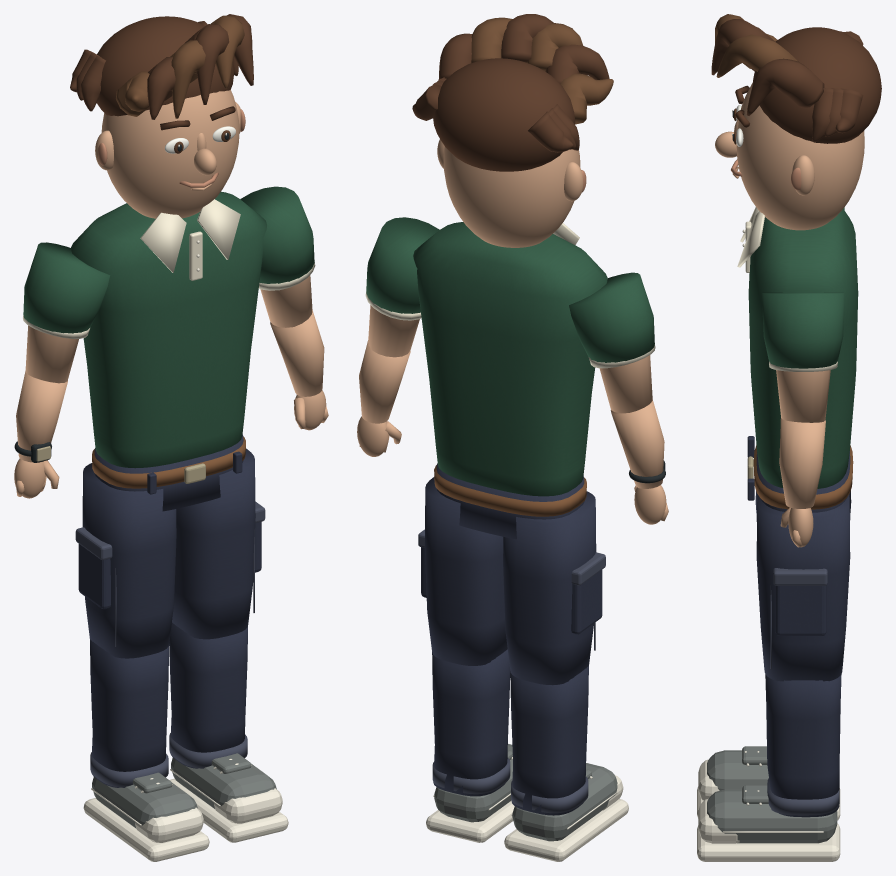
Rendered from student-polo.glb.
3 views of the same model, side by side, from view 1: azimuth 30°, elevation 25°; view 2: azimuth 150°, elevation 25°; view 3: azimuth 270°, elevation 25° (orthographic). The views are drawn at different scales.
Parts seen in each view (by area): view 1: student_body_geometry.001, student_knee_left_geometry, student_knee_right_geometry, student_hip_left_geometry, student_hair_geometry, student_hip_right_geometry, student_head, student_shoulder_left_geometry.001, student_body_geometry, student_shoulder_right_geometry.001, student_elbow_left_geometry, student_elbow_right_geometry (+3 smaller); view 2: student_body_geometry.001, student_hair_geometry, student_knee_left_geometry, student_hip_left_geometry, student_knee_right_geometry, student_hip_right_geometry, student_head, student_shoulder_left_geometry.001, student_body_geometry, student_shoulder_right_geometry.001, student_elbow_left_geometry, student_elbow_right_geometry (+3 smaller); view 3: student_knee_right_geometry, student_body_geometry.001, student_hair_geometry, student_hip_right_geometry, student_head, student_shoulder_right_geometry.001, student_elbow_right_geometry, student_knee_left_geometry, student_shoulder_right_geometry, student_body_geometry, student_head_mount_geometry, student_nose.
Boxes of the visible parts, left/top/right/bottom form: student_body_geometry.001: left=71, top=191, right=266, bottom=468; student_knee_left_geometry: left=83, top=639, right=209, bottom=861; student_knee_right_geometry: left=169, top=622, right=288, bottom=842; student_hip_left_geometry: left=75, top=463, right=176, bottom=658; student_hair_geometry: left=70, top=14, right=253, bottom=119; student_hip_right_geometry: left=172, top=448, right=265, bottom=639; student_head: left=101, top=89, right=239, bottom=218; student_shoulder_left_geometry.001: left=23, top=242, right=110, bottom=338; student_body_geometry: left=92, top=434, right=245, bottom=511; student_shoulder_right_geometry.001: left=240, top=186, right=315, bottom=290; student_elbow_left_geometry: left=14, top=371, right=67, bottom=498; student_elbow_right_geometry: left=270, top=310, right=328, bottom=430; student_body_geometry.001: left=413, top=222, right=607, bottom=496; student_hair_geometry: left=412, top=14, right=613, bottom=171; student_knee_left_geometry: left=504, top=666, right=628, bottom=861; student_hip_left_geometry: left=503, top=491, right=605, bottom=685; student_knee_right_geometry: left=426, top=649, right=514, bottom=842; student_hip_right_geometry: left=418, top=477, right=507, bottom=665; student_head: left=443, top=146, right=580, bottom=247; student_shoulder_left_geometry.001: left=569, top=272, right=655, bottom=368; student_body_geometry: left=434, top=463, right=586, bottom=539; student_shoulder_right_geometry.001: left=365, top=217, right=439, bottom=320; student_elbow_left_geometry: left=610, top=400, right=668, bottom=524; student_elbow_right_geometry: left=357, top=340, right=410, bottom=456; student_knee_right_geometry: left=697, top=674, right=841, bottom=861; student_body_geometry.001: left=737, top=207, right=858, bottom=488; student_hair_geometry: left=711, top=14, right=881, bottom=143; student_hip_right_geometry: left=756, top=494, right=850, bottom=681; student_head: left=736, top=83, right=864, bottom=230; student_shoulder_right_geometry.001: left=761, top=292, right=845, bottom=371; student_elbow_right_geometry: left=779, top=418, right=825, bottom=547; student_knee_left_geometry: left=697, top=746, right=840, bottom=820; student_shoulder_right_geometry: left=776, top=370, right=830, bottom=422; student_body_geometry: left=747, top=436, right=853, bottom=513; student_head_mount_geometry: left=731, top=85, right=814, bottom=195; student_nose: left=715, top=131, right=736, bottom=157.
Size of the model in its own units: 0.726 by 1.79 by 0.3675.
15 materials, 2 textured.
